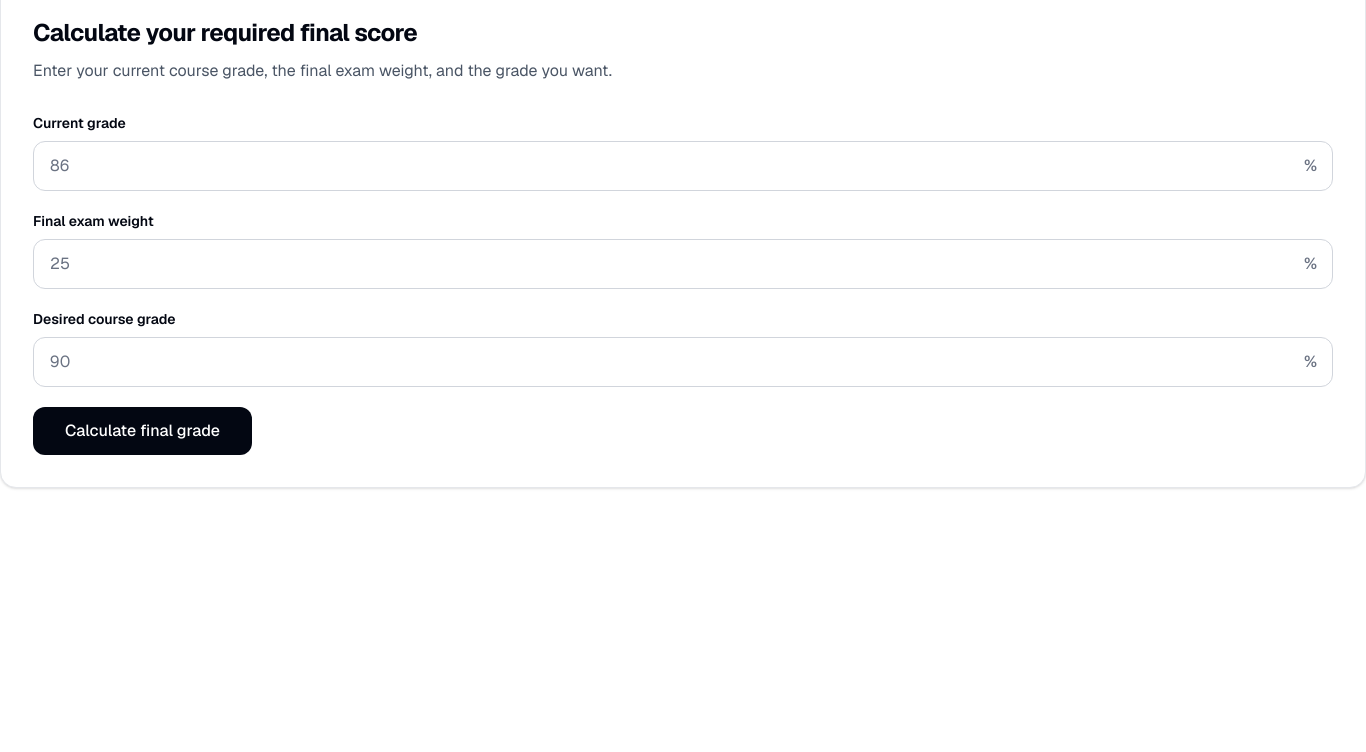
Test: FinalGradeCalculator › shows the required final score
Type "80" into the number field labelled "Current grade" at (683, 166), box [33,141,1333,191]
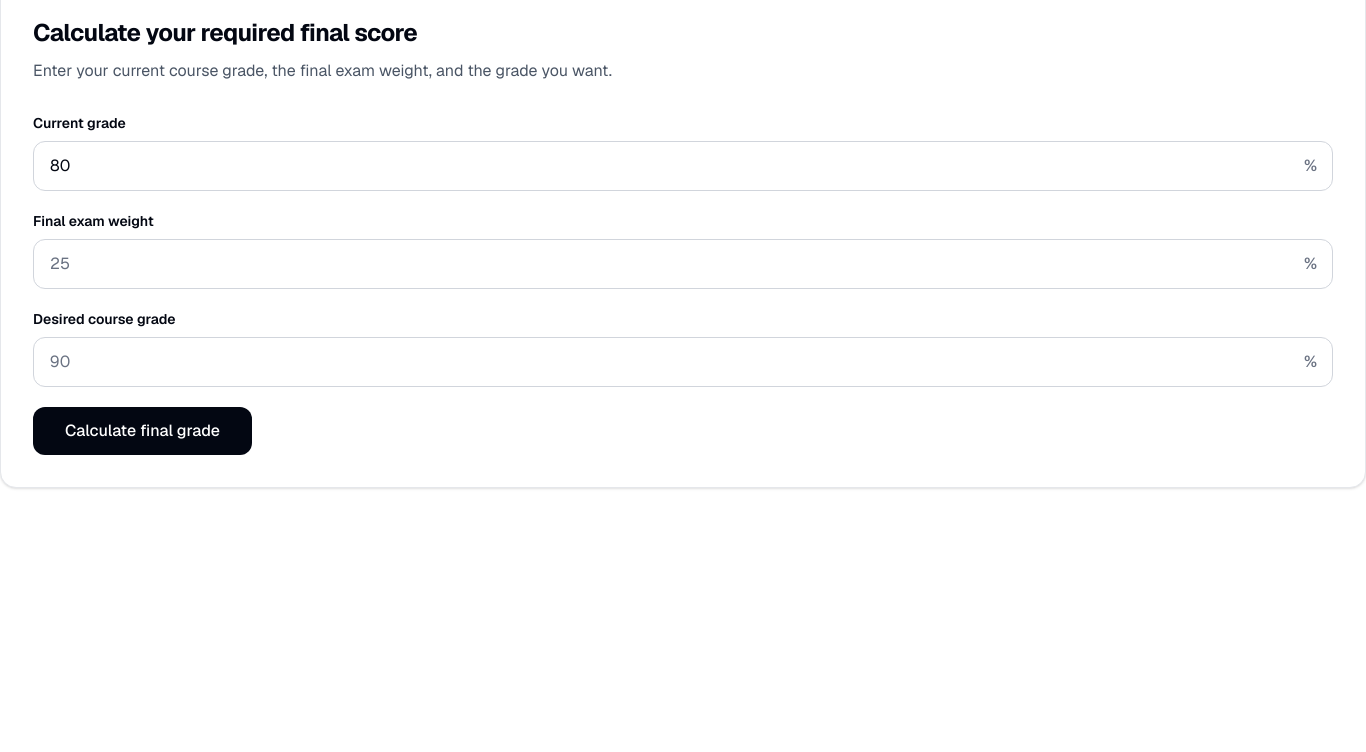
Type "20" into the number field labelled "Final exam weight" at (683, 264), box [33,239,1333,289]
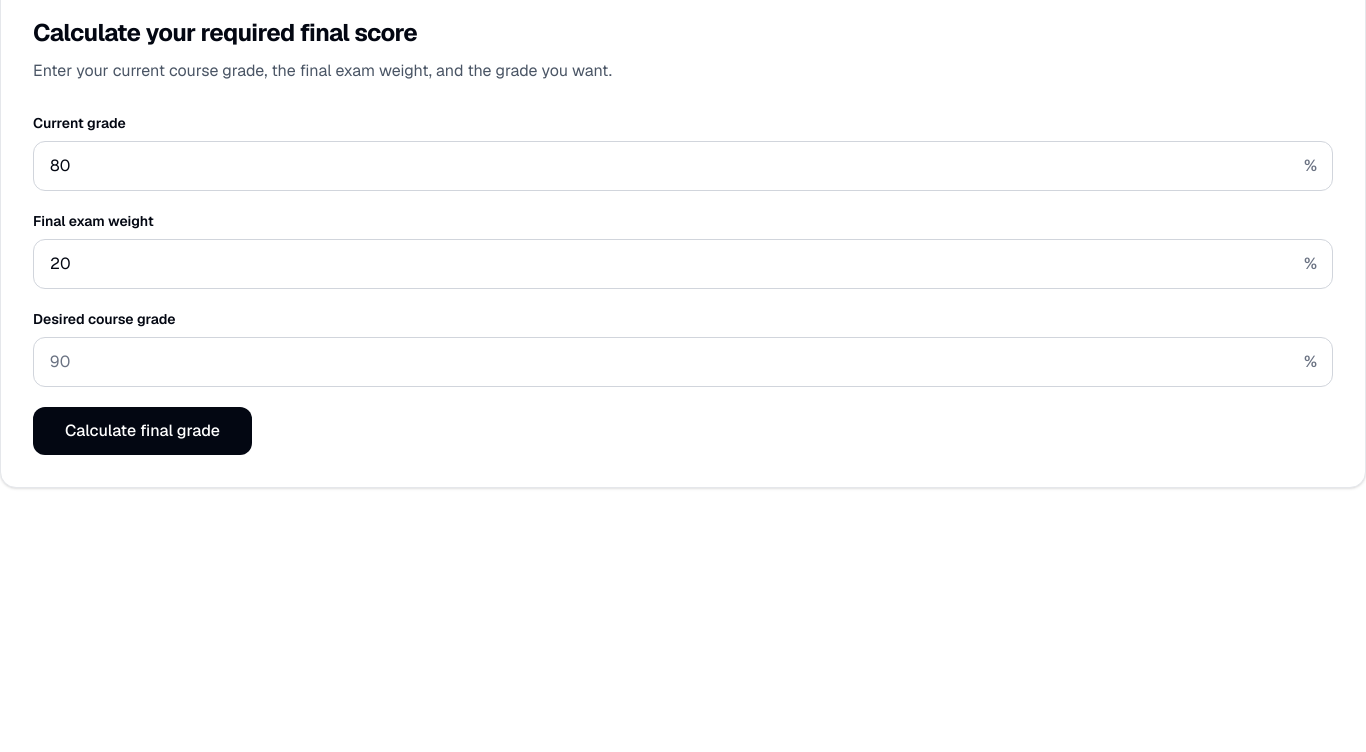
Type "84" into the number field labelled "Desired course grade" at (683, 362), box [33,337,1333,387]
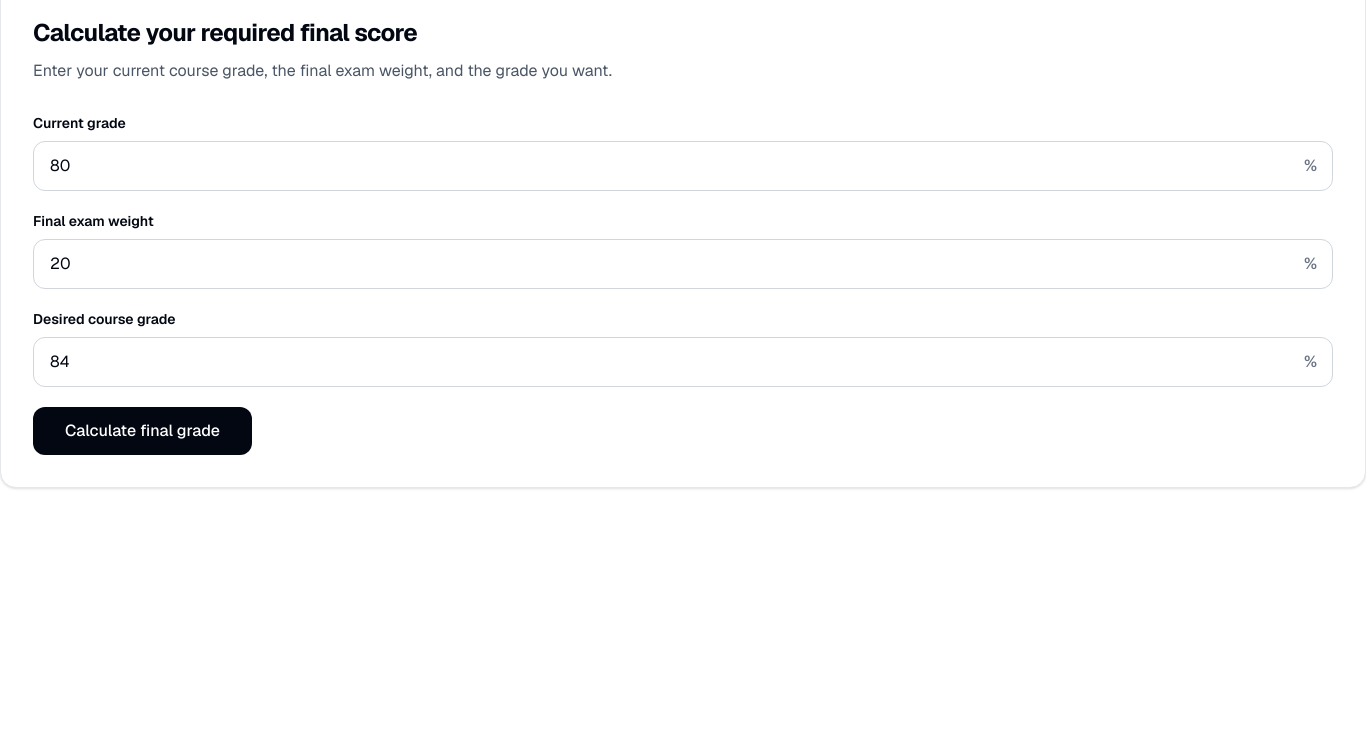
Click the button "Calculate final grade" at (142, 431), box [33,407,252,455]
(page scrolled)
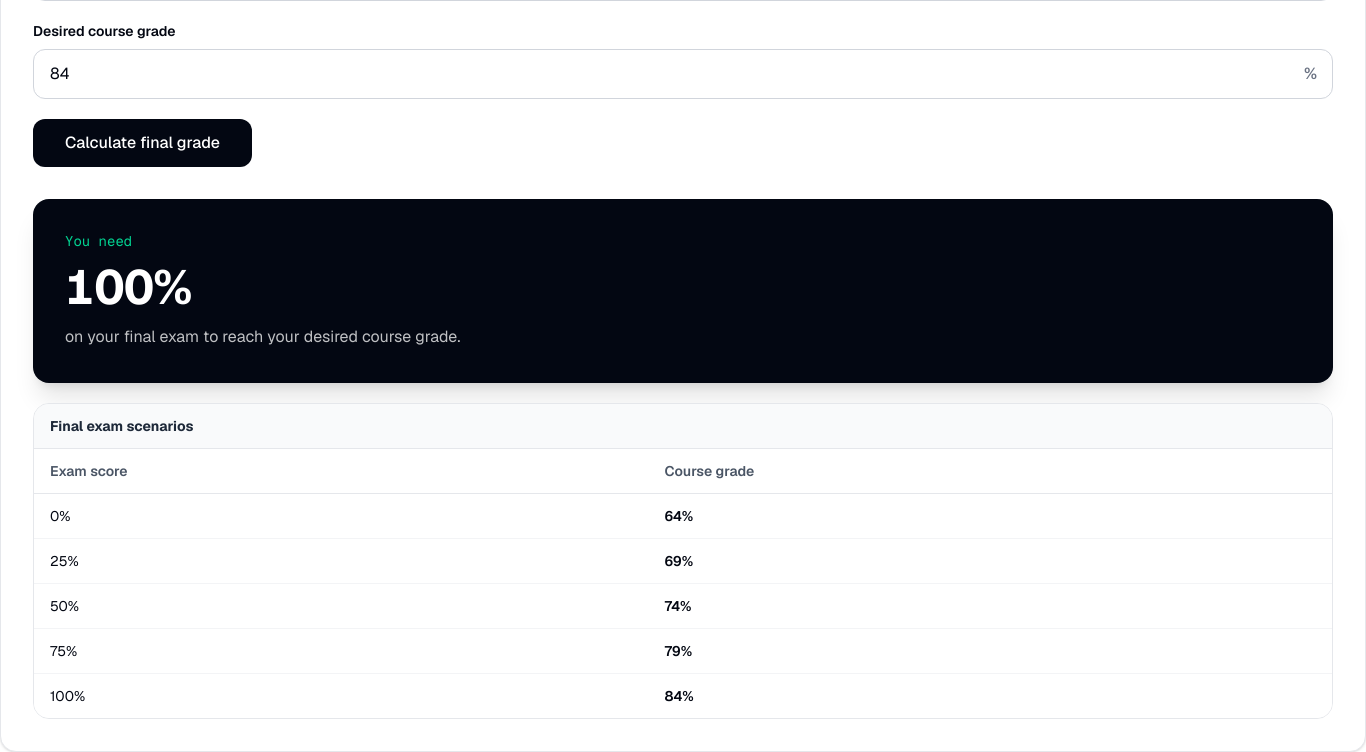
Result: the text "You need" is shown at [65,232,132,250]
Result: the text "100%" is shown at [65,256,191,318]
Result: the table "Final exam scenarios" is shown at [34,404,1332,718]
